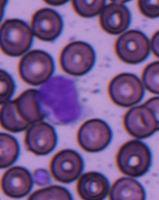M: (36, 74, 86, 125)
